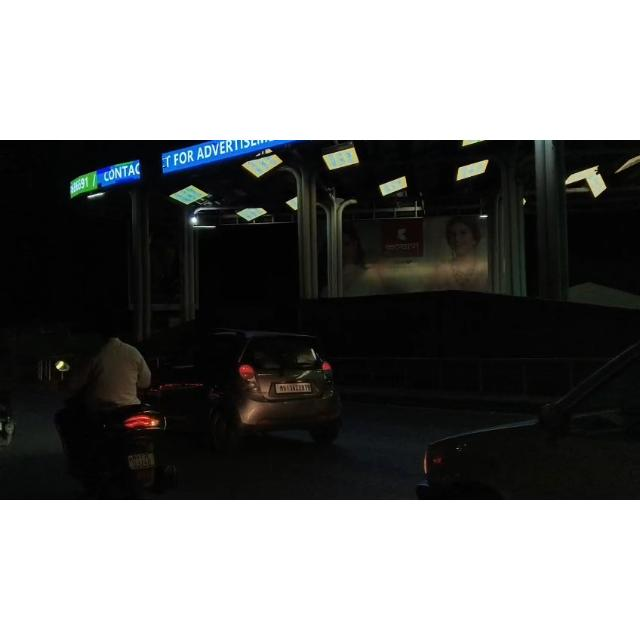car: (133, 314, 354, 450)
